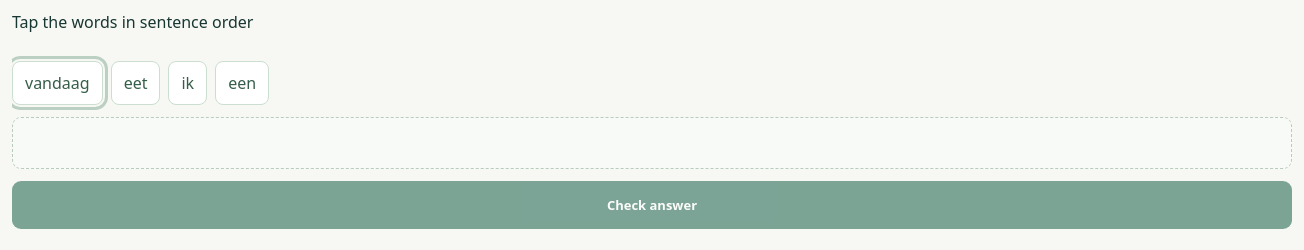
exercise renderers › uses focusable native buttons to build and submit a word order
Later steps or results of the test are not shown.
Expected: the button "Check answer" is disabled, [12,181,1292,229]
Click the button "vandaag".
click(57, 83)  # box [12,61,103,105]
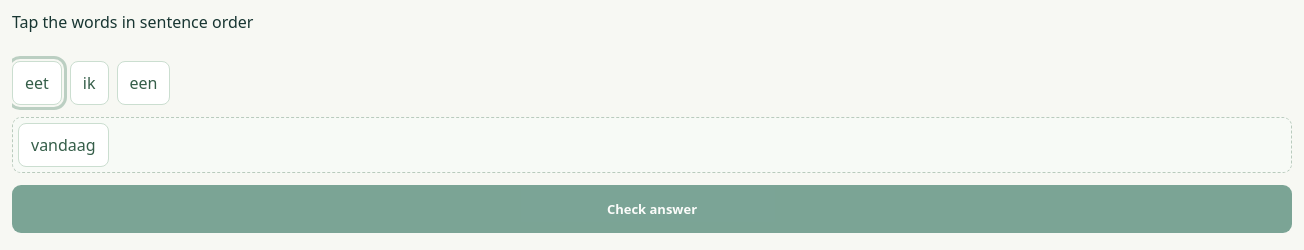
Click the button "eet".
click(37, 83)  # box [12,61,62,105]
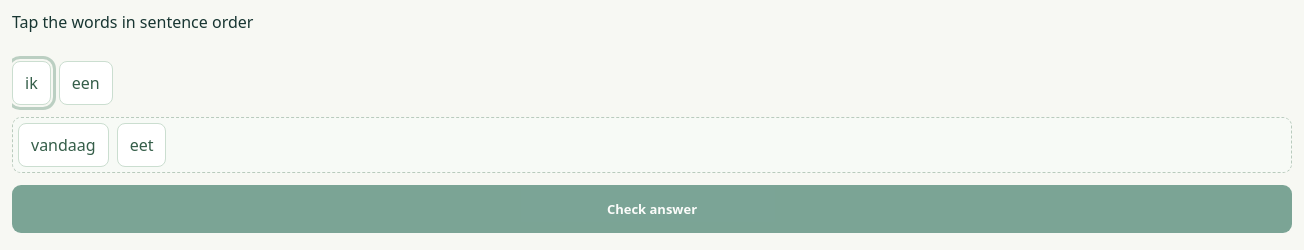
Click the button "ik".
click(31, 83)  # box [12,61,51,105]
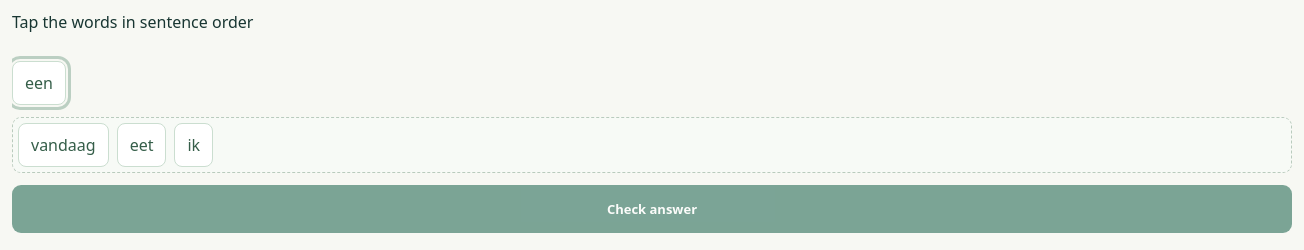
Click the button "een".
click(39, 83)  # box [12,61,66,105]
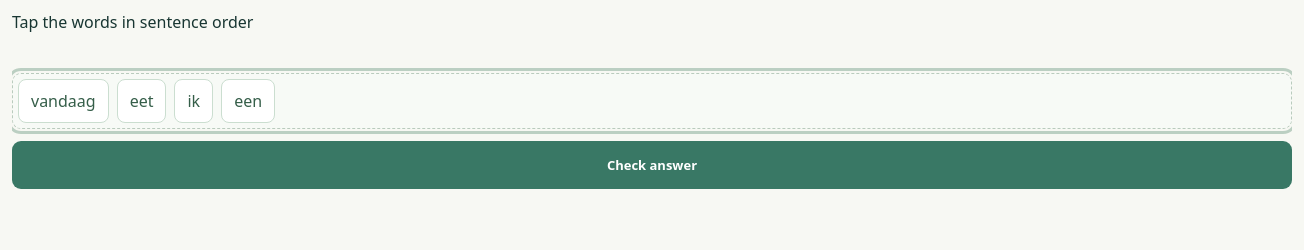
Now the button "Check answer" is enabled, box [12,141,1292,189]
